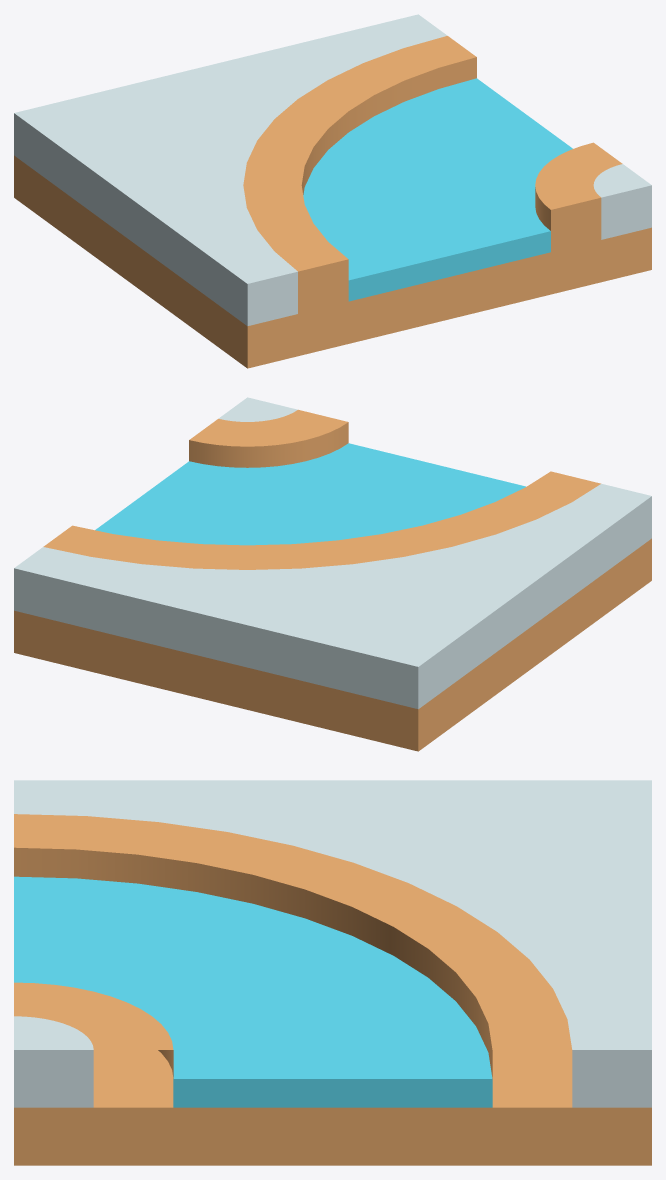
The model's file is snowTileRiverCorner.fbx.
3 renders of one model, top to bottom at view 1: azimuth 30°, elevation 25°; view 2: azimuth 150°, elevation 25°; view 3: azimuth 270°, elevation 25°, orthographic. The views are drawn at different scales.
Parts seen in each view (by area): view 1: snow_tile_riverCorner; view 2: snow_tile_riverCorner; view 3: snow_tile_riverCorner.
Part boxes in pixels (x1,y1,x2,y2): snow_tile_riverCorner: (14,14,651,368); snow_tile_riverCorner: (14,397,651,751); snow_tile_riverCorner: (14,780,651,1165).
Size of the model in its own units: 39.37 by 7.87 by 39.37.
